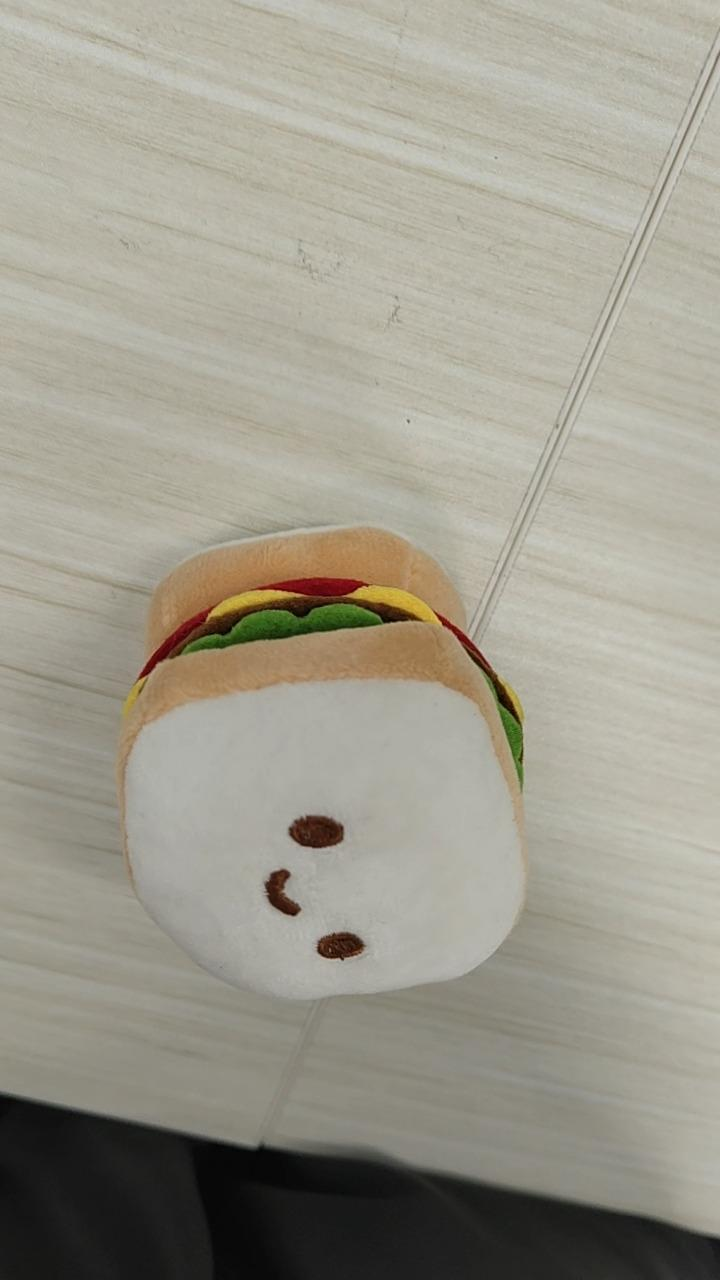objects: (115, 521, 529, 1001)
